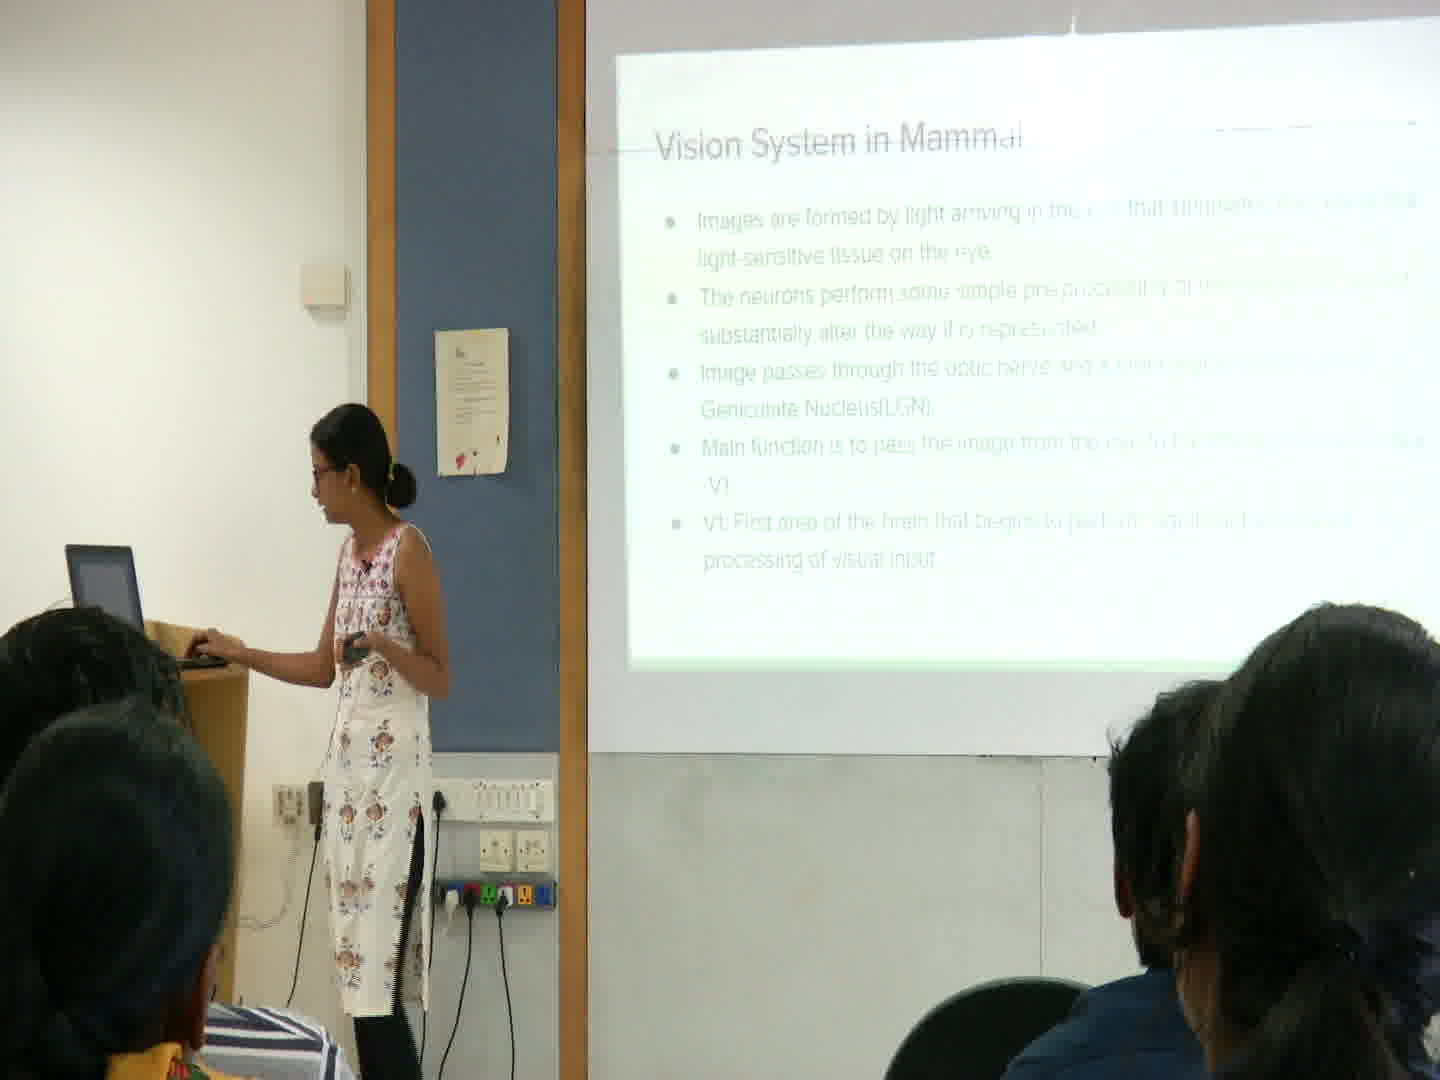slide: (615, 16, 1440, 670)
